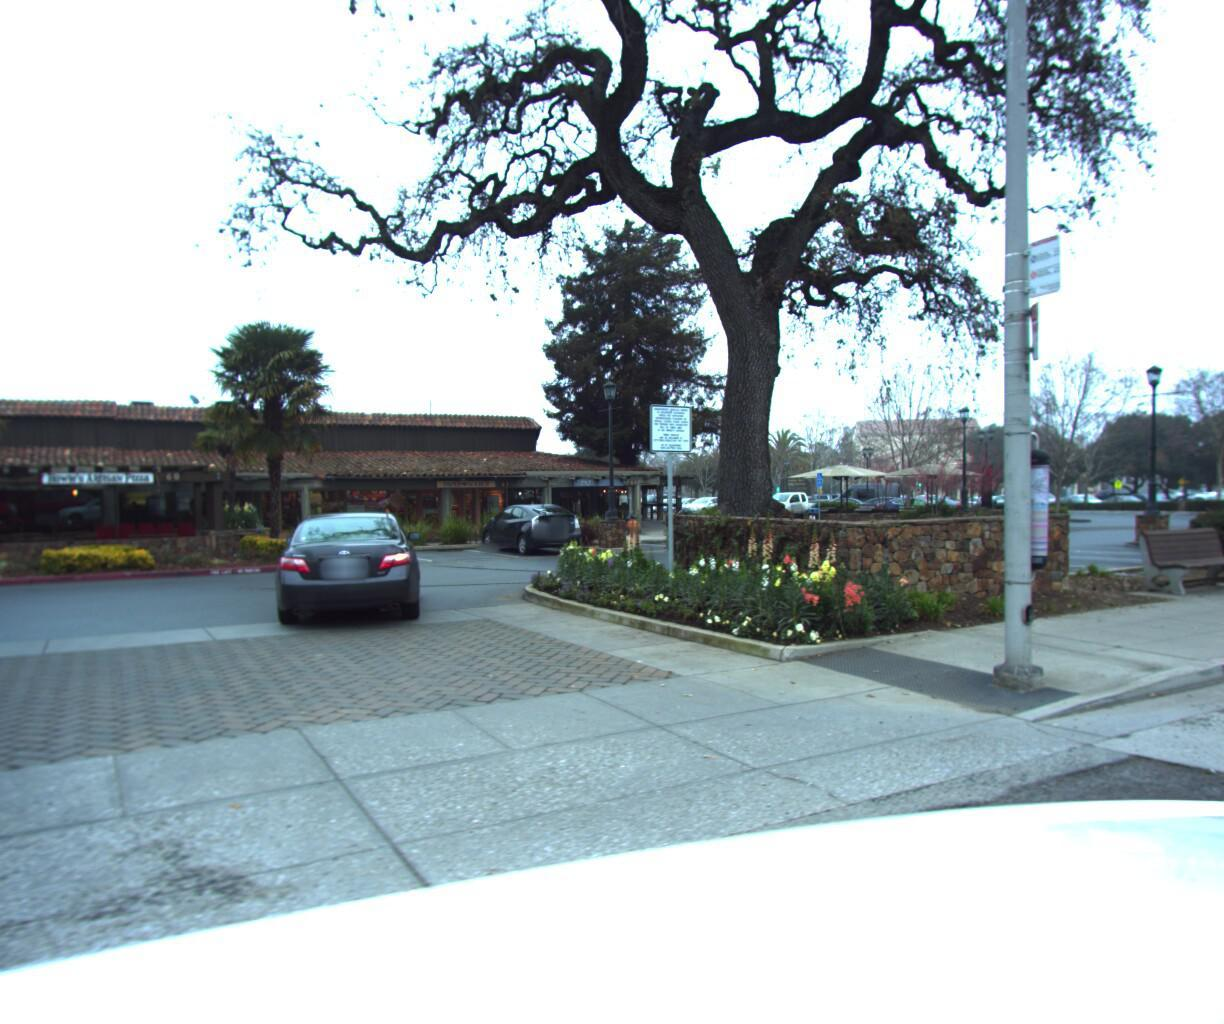car: (263, 505, 423, 636), (1187, 484, 1224, 507)
